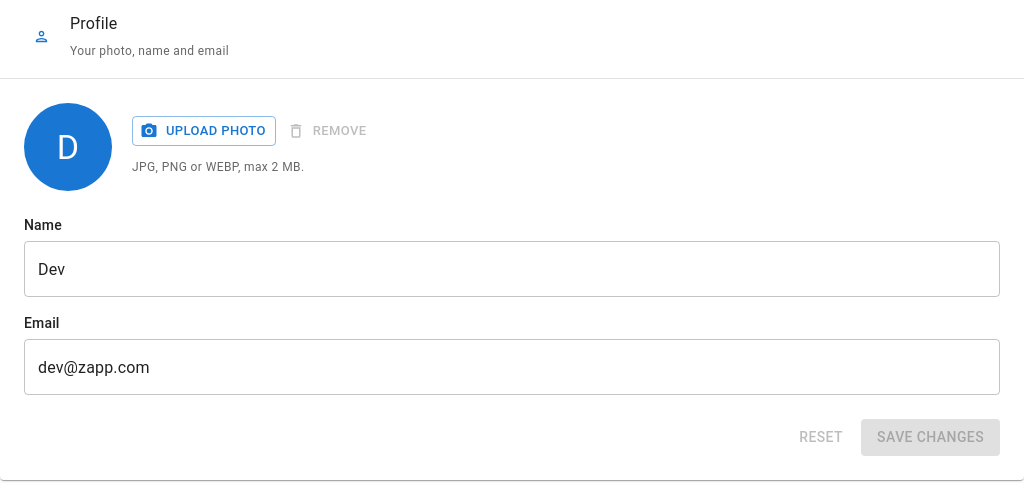
it: ProfileForm › fills the form and enables saving only after a change
The image size is (1024, 499).
Check: the 2nd field showing "dev@zapp.com" is shown, box [24,339,1000,395]
Check: the button "Save changes" is disabled, box [861,419,1000,456]
Replace the text in the 1st field showing "Dev" with "Dev Ops" at coordinates (512, 269), box [24,241,1000,297]
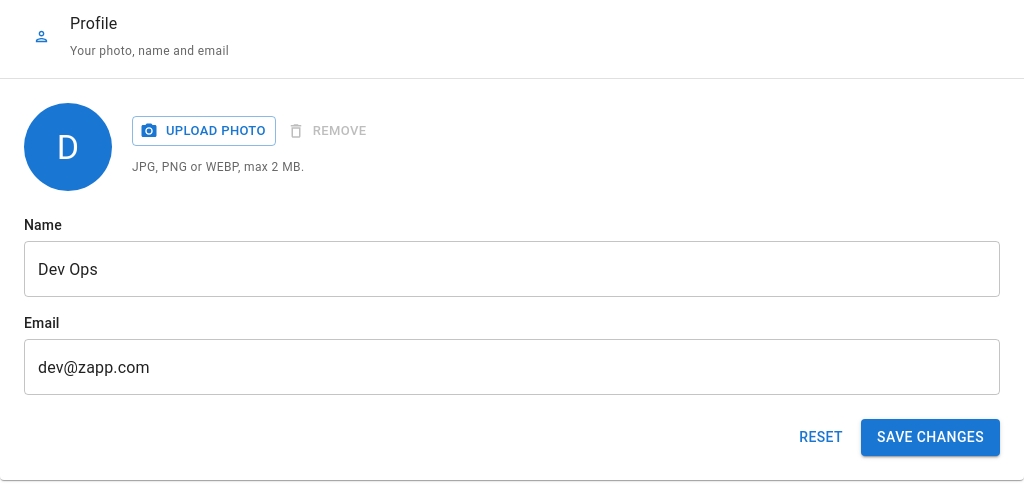
Check: the button "Save changes" is enabled, box [861,419,1000,456]
